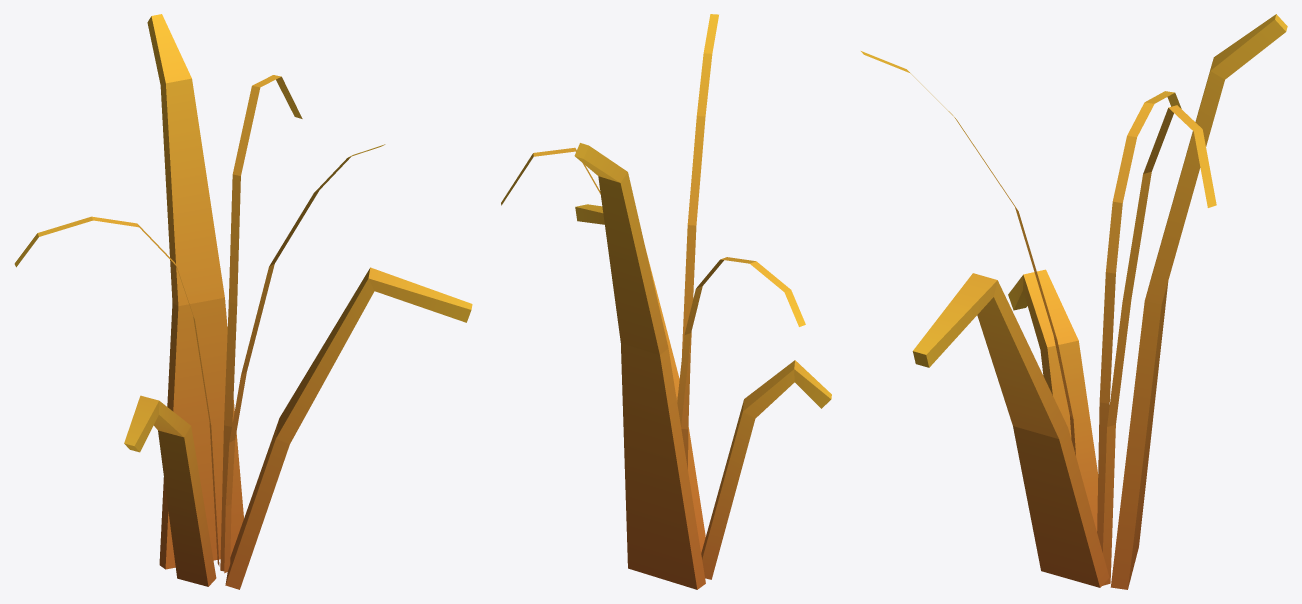
The model's file is AutumnGrass1.fbx.
3 views of the same model, side by side, from view 1: azimuth 30°, elevation 25°; view 2: azimuth 150°, elevation 25°; view 3: azimuth 270°, elevation 25° (orthographic). The views are drawn at different scales.
Parts seen in each view (by area): view 1: AutumnGrass1; view 2: AutumnGrass1; view 3: AutumnGrass1.
Part boxes in pixels (x1,y1,x2,y2): AutumnGrass1: (14,14,472,589); AutumnGrass1: (501,14,831,589); AutumnGrass1: (861,14,1287,589).
Bounding box in the file's own units: 132 × 182 × 123.
